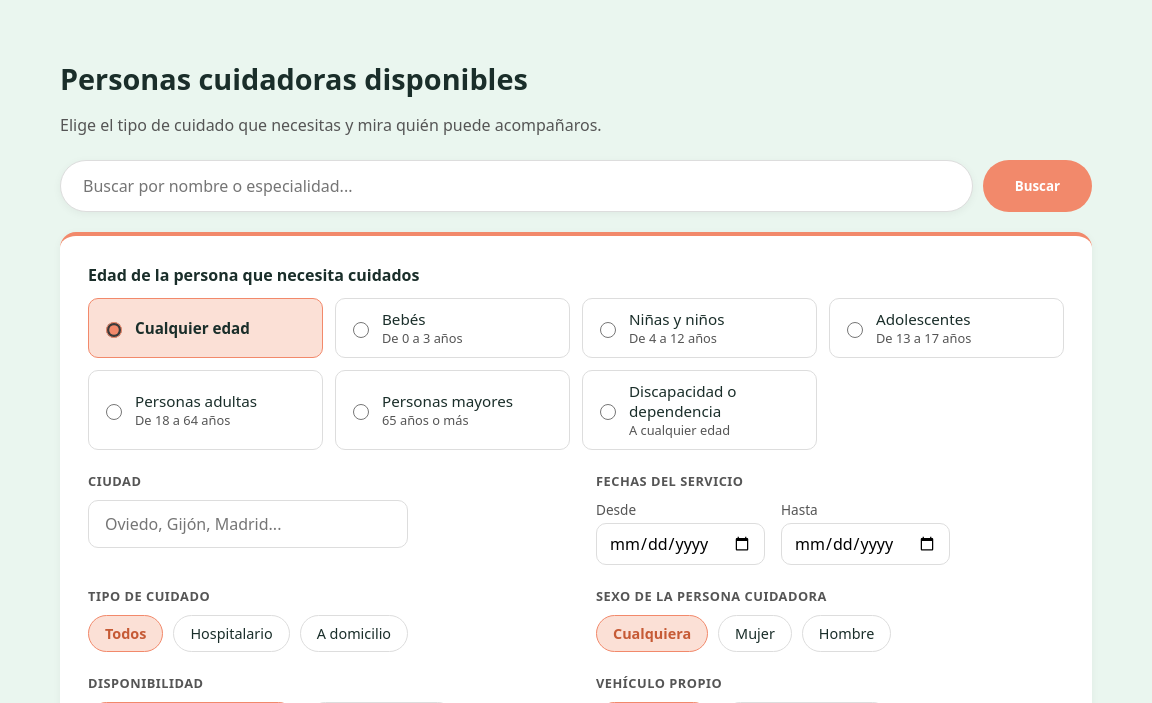
Test: BuscarView › muestra el motivo si el servidor responde con un error al comprobar las fechas
The image size is (1152, 703).
Type "2026-11-01" into the date field with id "filtro-fecha-desde".
click(680, 544); type("2026-11-01")  # box [596,523,765,565]
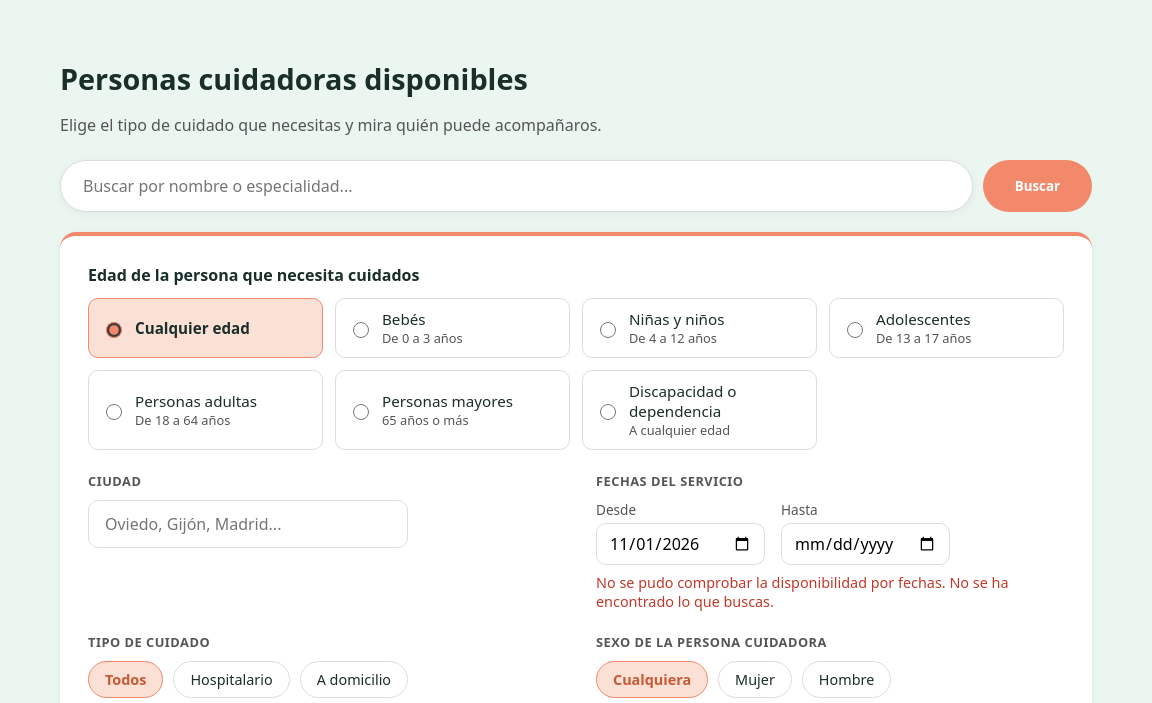
Now the text "No se pudo comprobar la disponibilidad por fechas. No se ha encontrado lo que buscas." is shown, box [596,573,1008,611]
